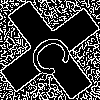C: (25, 25, 84, 82)
